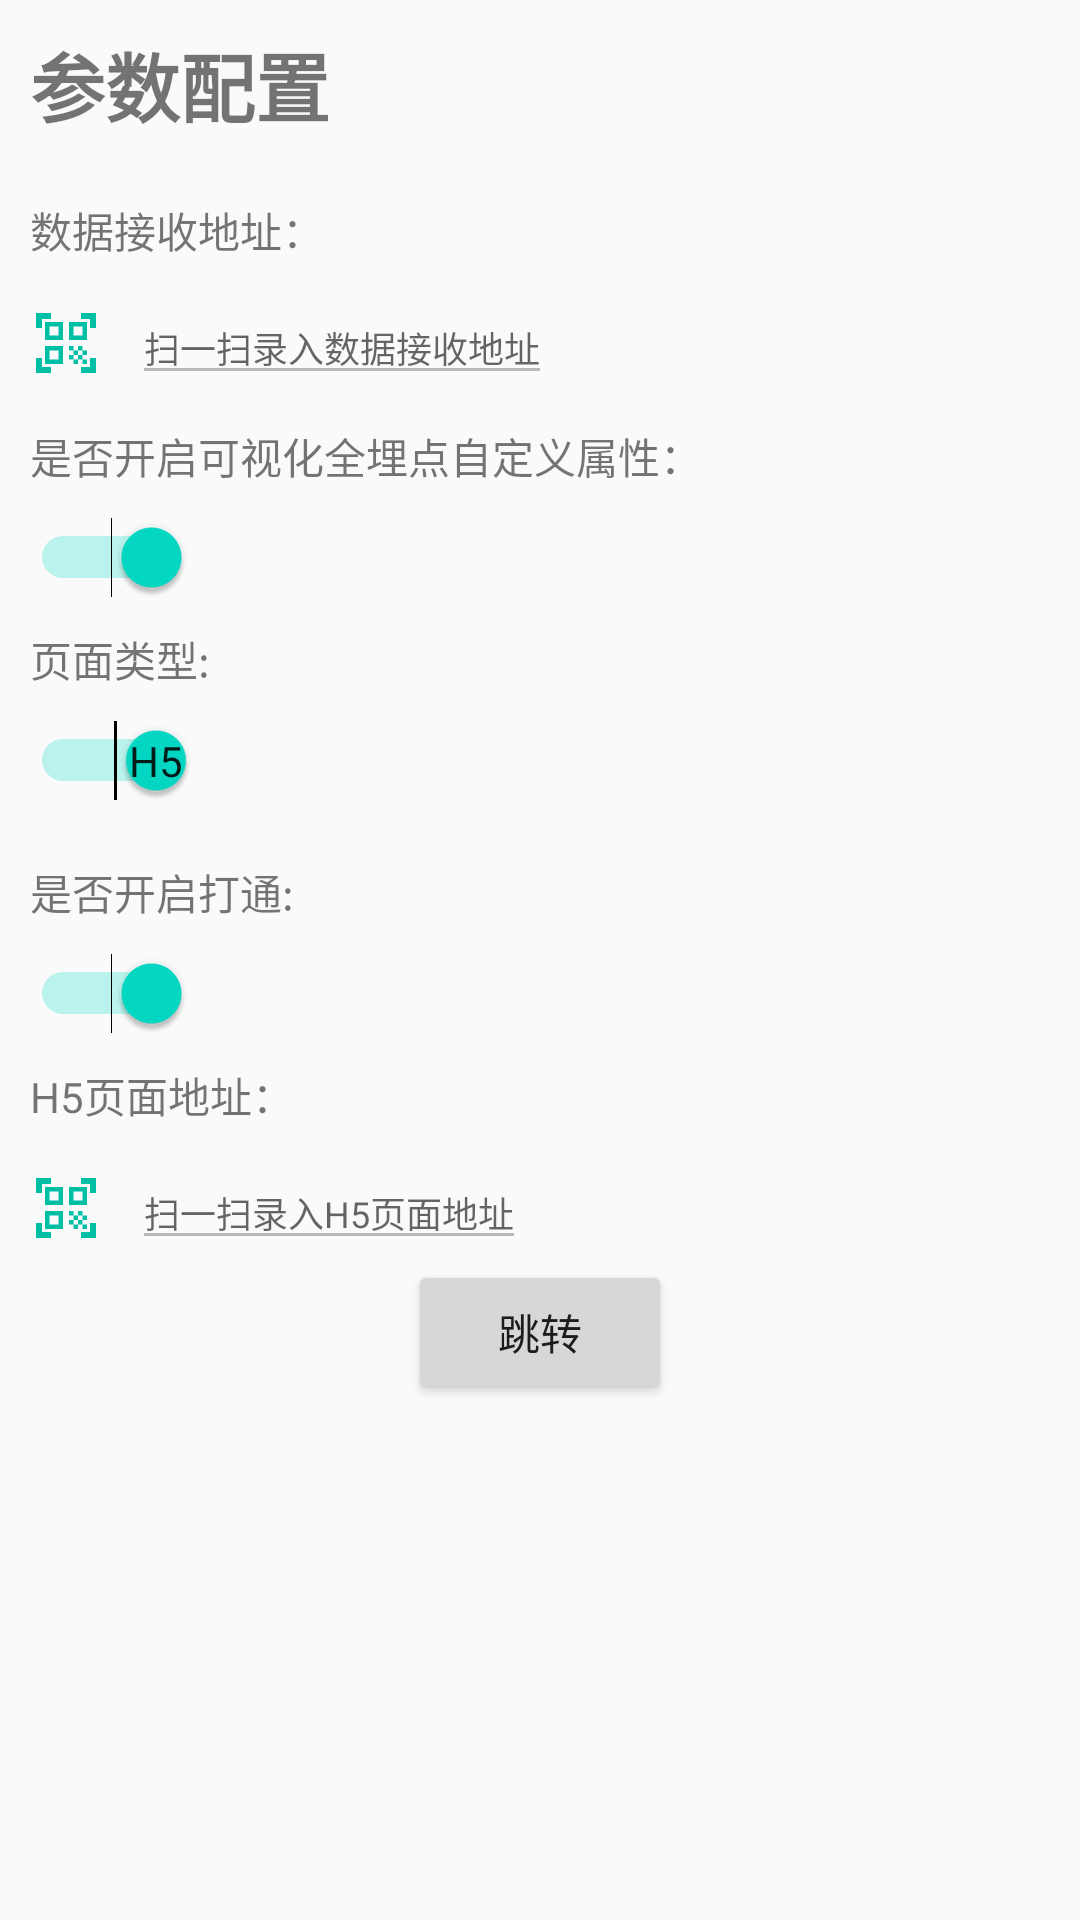

Named icons in this screenshot (1080px x 1920px) and their centers, (x,y):
qr code scanner: (66,343), (66,1208)
